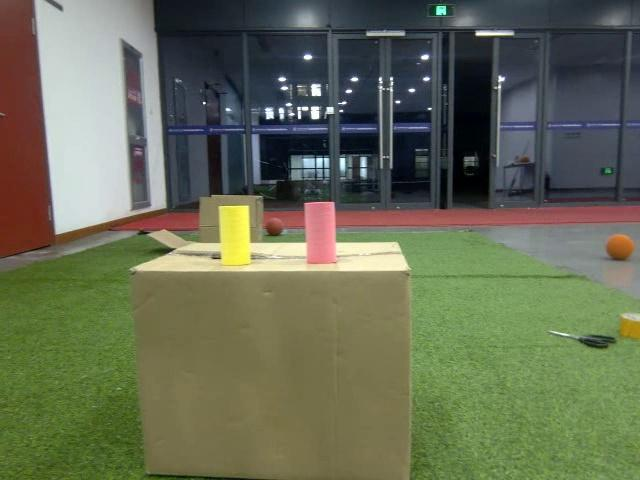orange_ball: (603, 232, 634, 266)
red_ball: (264, 216, 284, 237)
red_cylinder: (304, 199, 339, 267)
yellow_cylinder: (215, 201, 255, 269)
